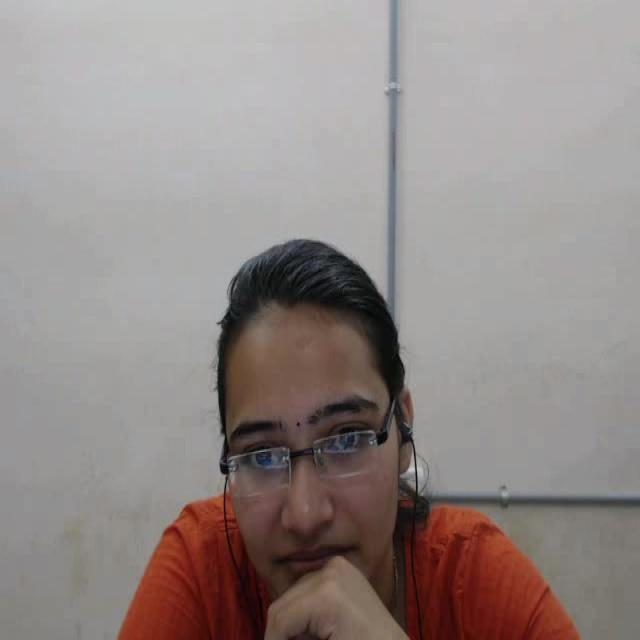Engaged: (196, 227, 426, 627)
